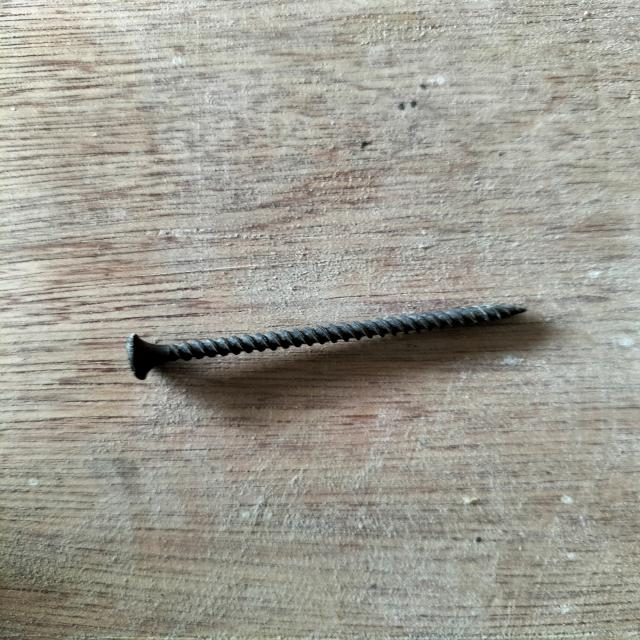screw: (128, 306, 524, 379)
